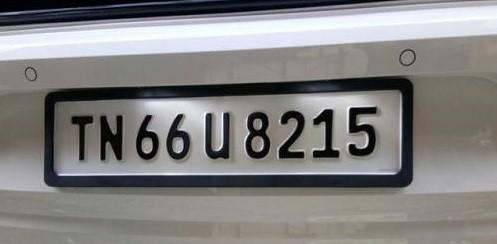License-Plate: (43, 89, 410, 182)
